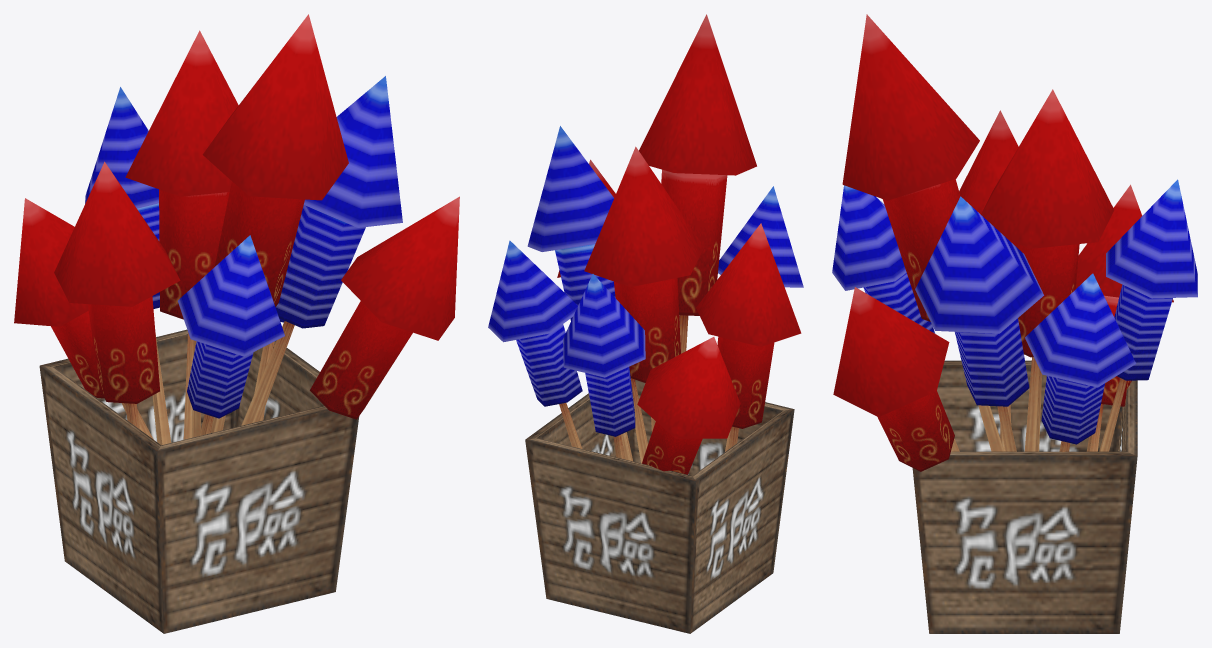
The picture shows the model from 3 angles, left to right: view 1: azimuth 30°, elevation 25°; view 2: azimuth 150°, elevation 25°; view 3: azimuth 270°, elevation 25°; orthographic projection. The views are drawn at different scales.
Visible parts, largest first — view 1: objpolySurface79; view 2: objpolySurface79; view 3: objpolySurface79.
Part boxes in pixels (bbox=[...]): objpolySurface79: bbox=[14, 14, 459, 633]; objpolySurface79: bbox=[488, 14, 803, 633]; objpolySurface79: bbox=[832, 14, 1197, 633].
Size of the model in its own units: 96.76 by 173 by 97.1.
1 material, 1 textured.
